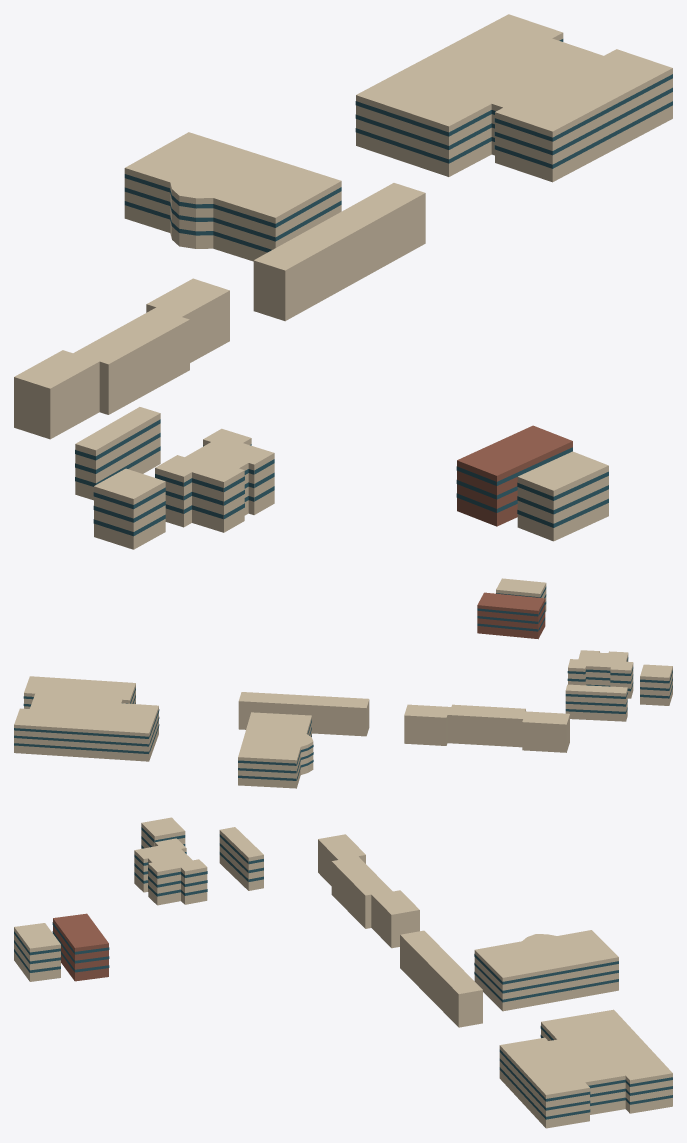
The model's file is city_7_1.glb.
3 views of the same model, one above another, from view 1: azimuth 30°, elevation 25°; view 2: azimuth 150°, elevation 25°; view 3: azimuth 270°, elevation 25° (orthographic). The views are drawn at different scales.
Parts seen in each view (by area): view 1: city_7_1; view 2: city_7_1; view 3: city_7_1.
Boxes of the visible parts, x1,y1,x2,y2 form: city_7_1: (14, 14, 672, 549); city_7_1: (14, 578, 672, 788); city_7_1: (14, 817, 672, 1128).
Size of the model in its own units: 267 by 15 by 268.
